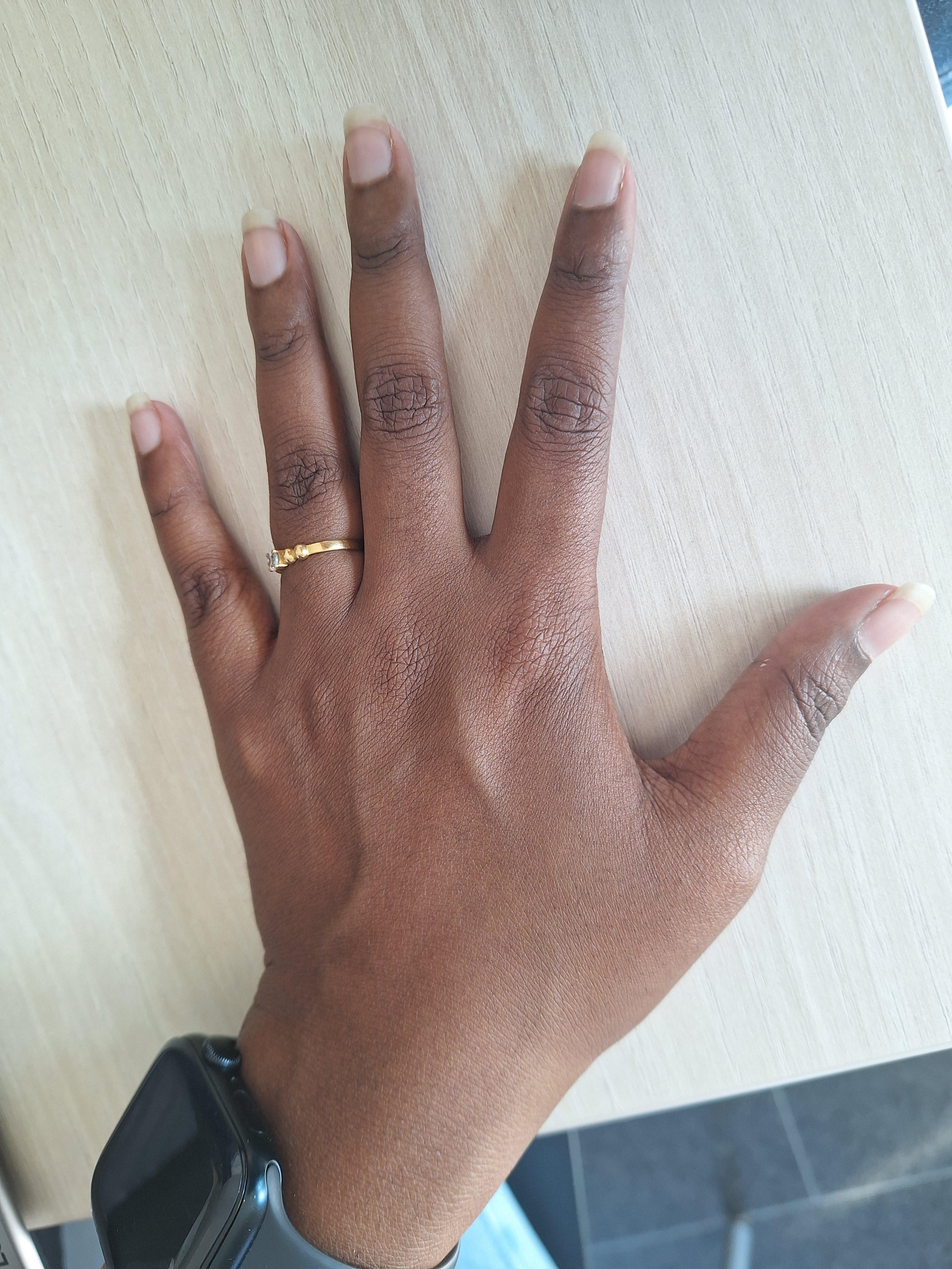Fingernail: (858, 582, 934, 662), (574, 130, 628, 208), (343, 104, 392, 183), (240, 209, 287, 287), (126, 392, 161, 455)
